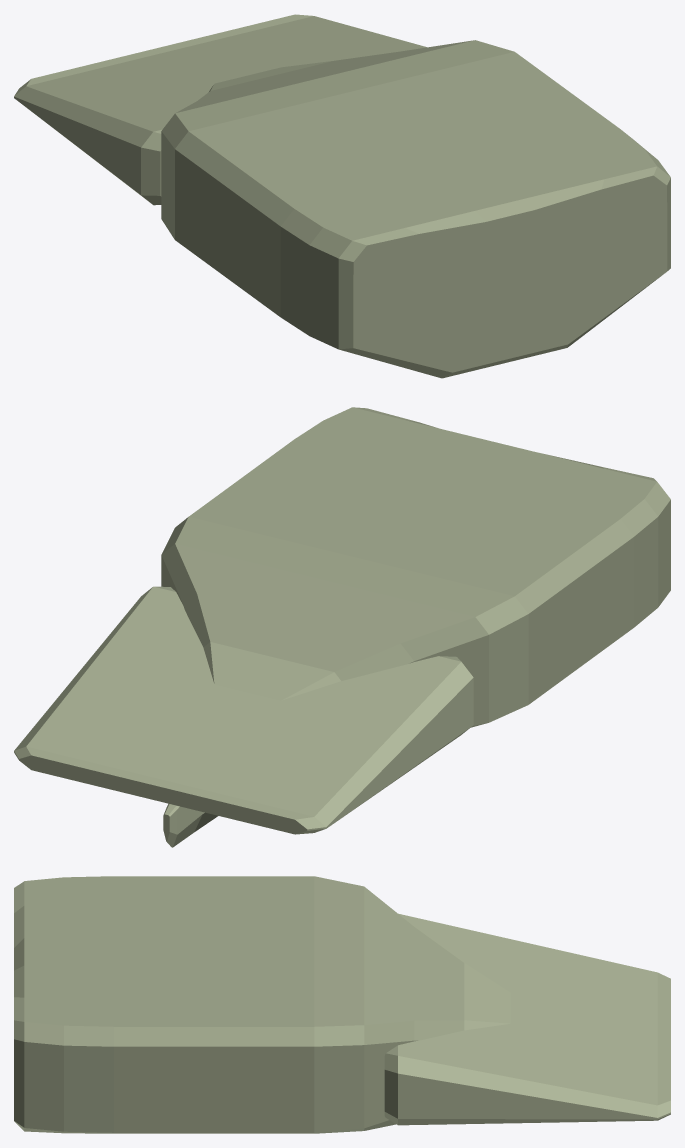
File: hartmann_oddball_a.glb
3 renders of one model, top to bottom at view 1: azimuth 30°, elevation 25°; view 2: azimuth 150°, elevation 25°; view 3: azimuth 270°, elevation 25°, orthographic. The views are drawn at different scales.
Parts seen in each view (by area): view 1: hartmann_oddball_a; view 2: hartmann_oddball_a; view 3: hartmann_oddball_a.
Part boxes in pixels (bbox=[...]): hartmann_oddball_a: bbox=[14, 14, 670, 378]; hartmann_oddball_a: bbox=[14, 407, 670, 847]; hartmann_oddball_a: bbox=[14, 876, 670, 1133].
Bounding box in the file's own units: 4 × 1.73 × 6.8.
